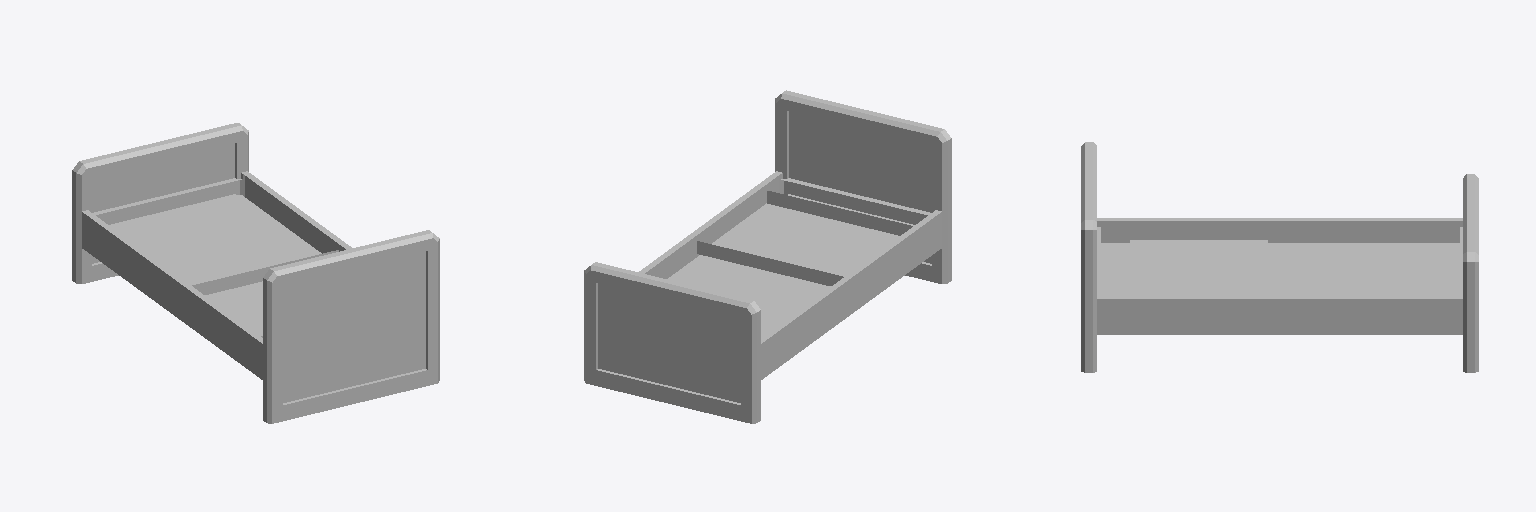
Rendered from bedFrame.obj.
3 renders of one model, left to right at view 1: azimuth 30°, elevation 25°; view 2: azimuth 150°, elevation 25°; view 3: azimuth 270°, elevation 25°, orthographic.
Parts seen in each view (by area): view 1: bedroom#2.003_Mesh.001; view 2: bedroom#2.003_Mesh.001; view 3: bedroom#2.003_Mesh.001.
Boxes of the visible parts, x1,y1,x2,y2 form: bedroom#2.003_Mesh.001: [72, 123, 439, 423]; bedroom#2.003_Mesh.001: [584, 90, 951, 423]; bedroom#2.003_Mesh.001: [1081, 142, 1478, 372].
Size of the model in its own units: 5.35 by 4.44 by 10.65.